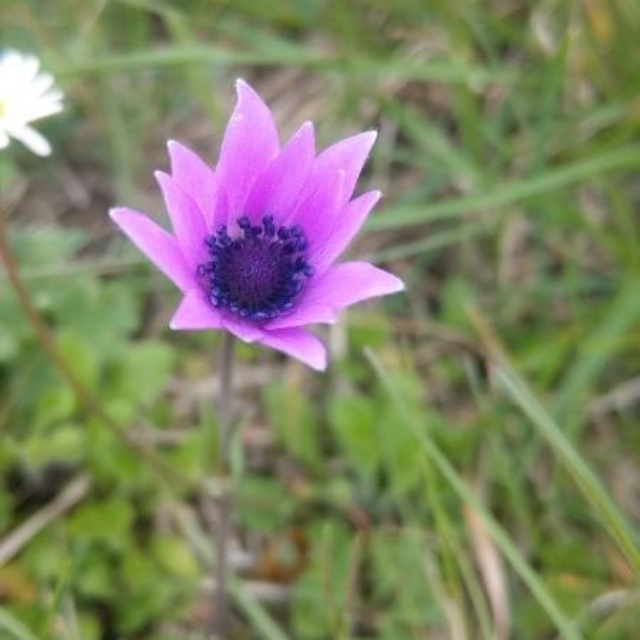obstacle: (80, 81, 410, 447)
